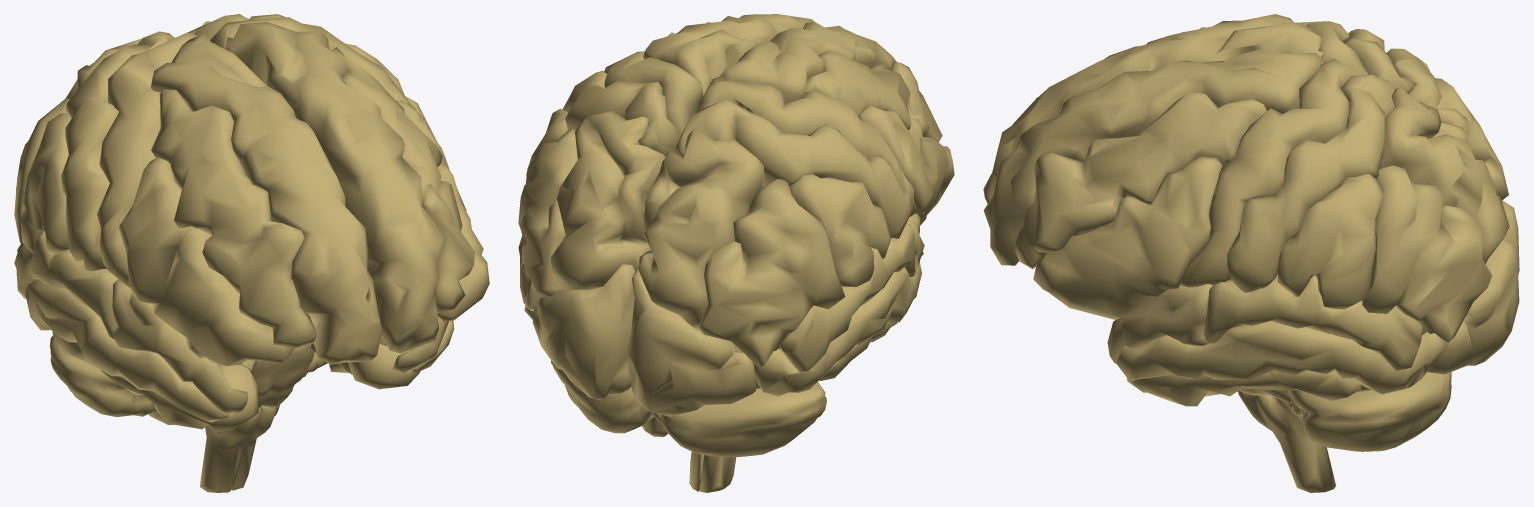
The model's file is brain.glb.
3 renders of one model, left to right at view 1: azimuth 30°, elevation 25°; view 2: azimuth 150°, elevation 25°; view 3: azimuth 270°, elevation 25°, orthographic. The views are drawn at different scales.
Parts seen in each view (by area): view 1: world; view 2: world; view 3: world.
Boxes of the visible parts, <box> form: world: <box>14,14,489,492</box>; world: <box>518,14,954,492</box>; world: <box>983,14,1519,492</box>.
Size of the model in its own units: 1.56 by 1.84 by 2.
